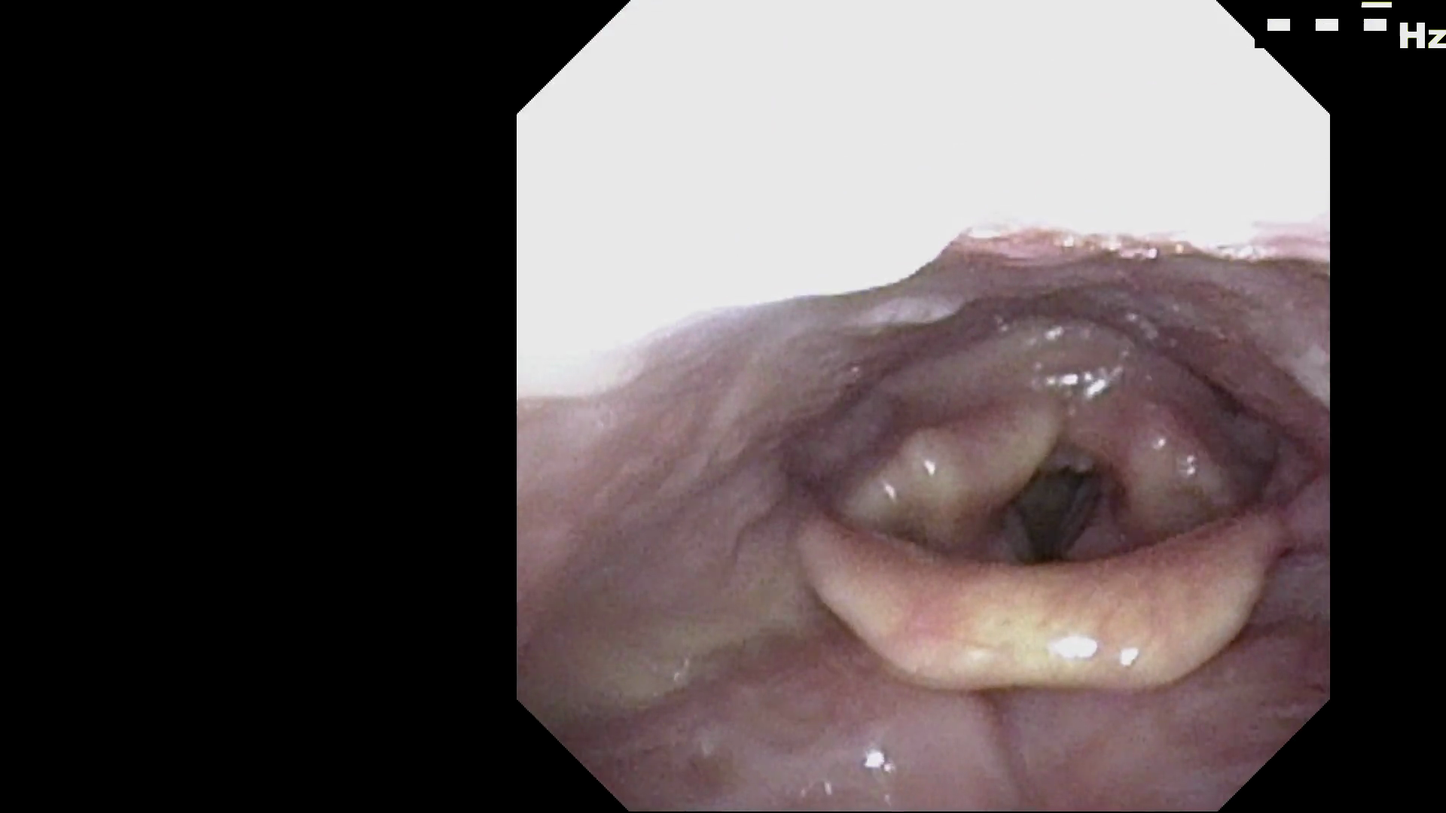epiglottis: (779, 469, 1304, 708)
trachea: (979, 412, 1125, 566)
